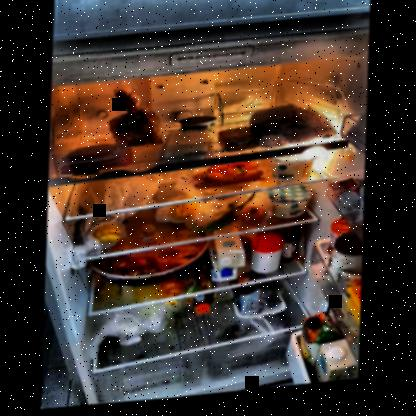butter: (218, 129, 260, 154)
carrot: (198, 165, 266, 192)
cheese: (160, 136, 212, 163)
green_chillies: (193, 211, 243, 238)
lemon: (94, 225, 127, 249), (167, 207, 201, 227)
milk: (209, 242, 245, 289)
salami: (60, 144, 128, 171)
tomato: (241, 211, 268, 231)
yoghurt: (266, 191, 314, 226), (271, 157, 317, 189), (179, 116, 216, 137)
